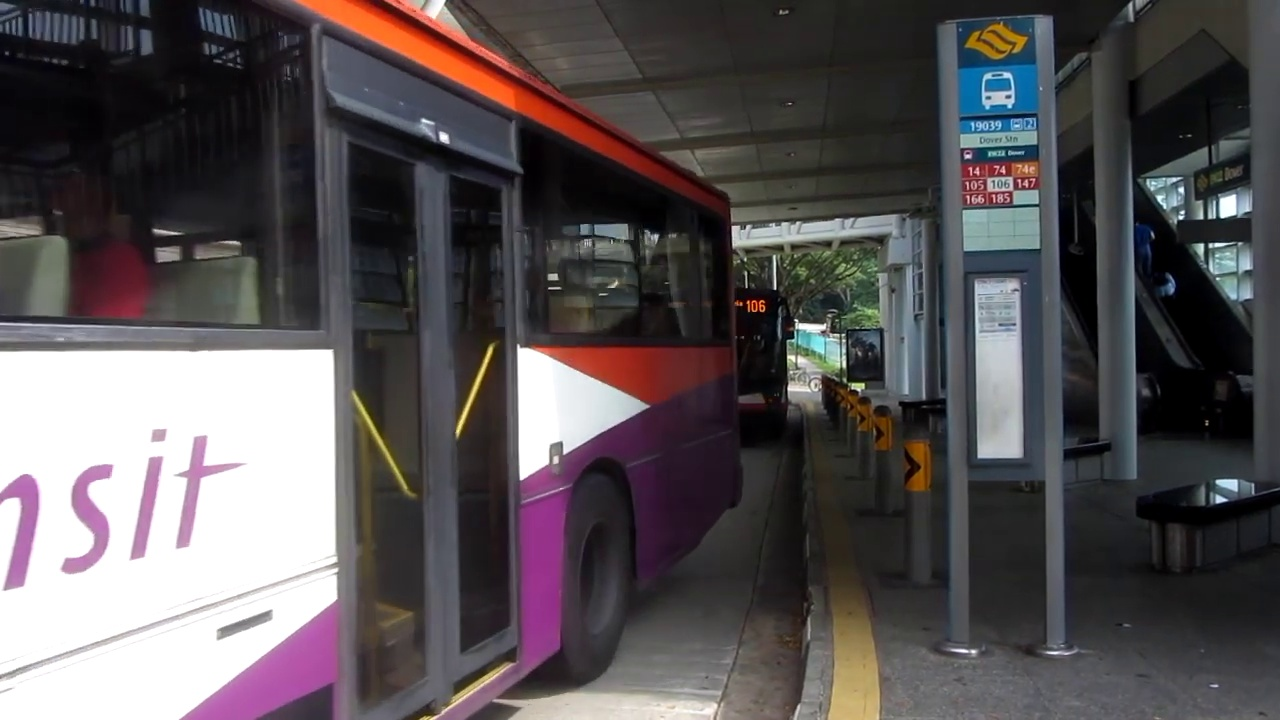bus panel: (735, 295, 770, 316)
